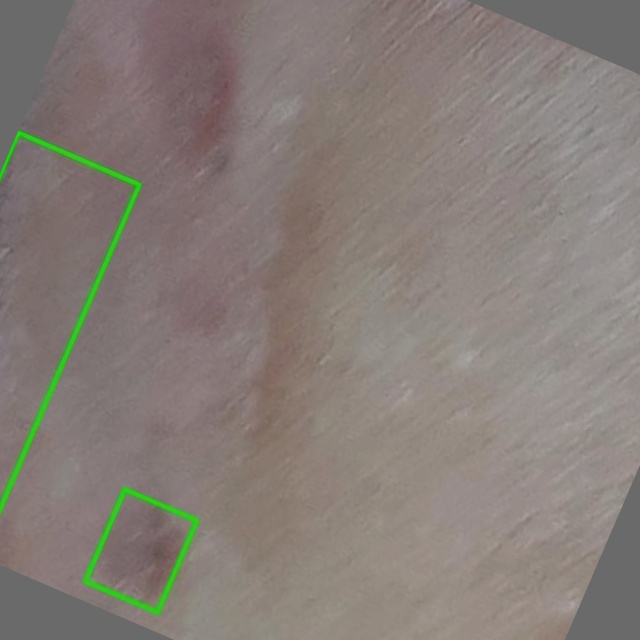Eczema: (85, 489, 196, 612)
